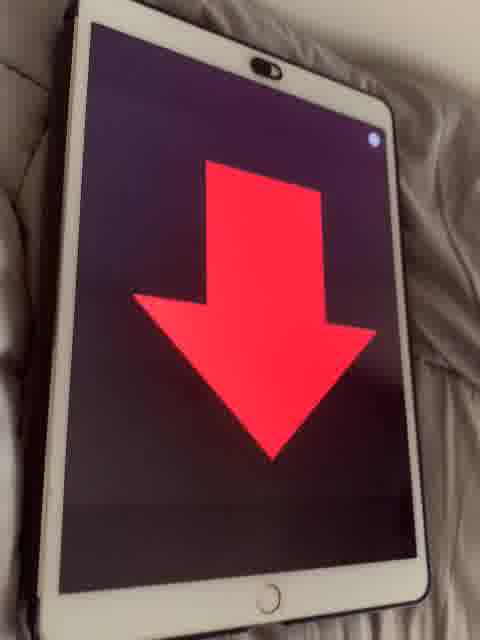down: (131, 151, 381, 463)
